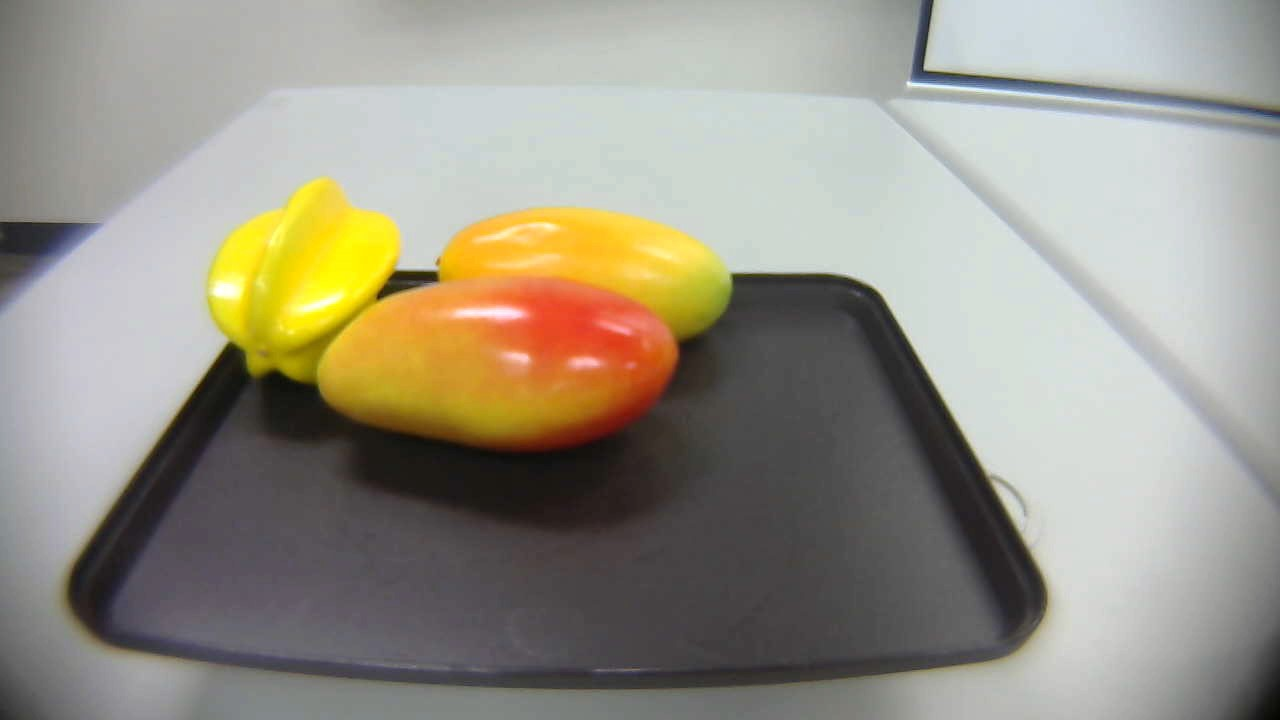red mango: (307, 271, 686, 460)
star fruit: (201, 175, 419, 397)
yellow mango: (438, 209, 736, 347)
